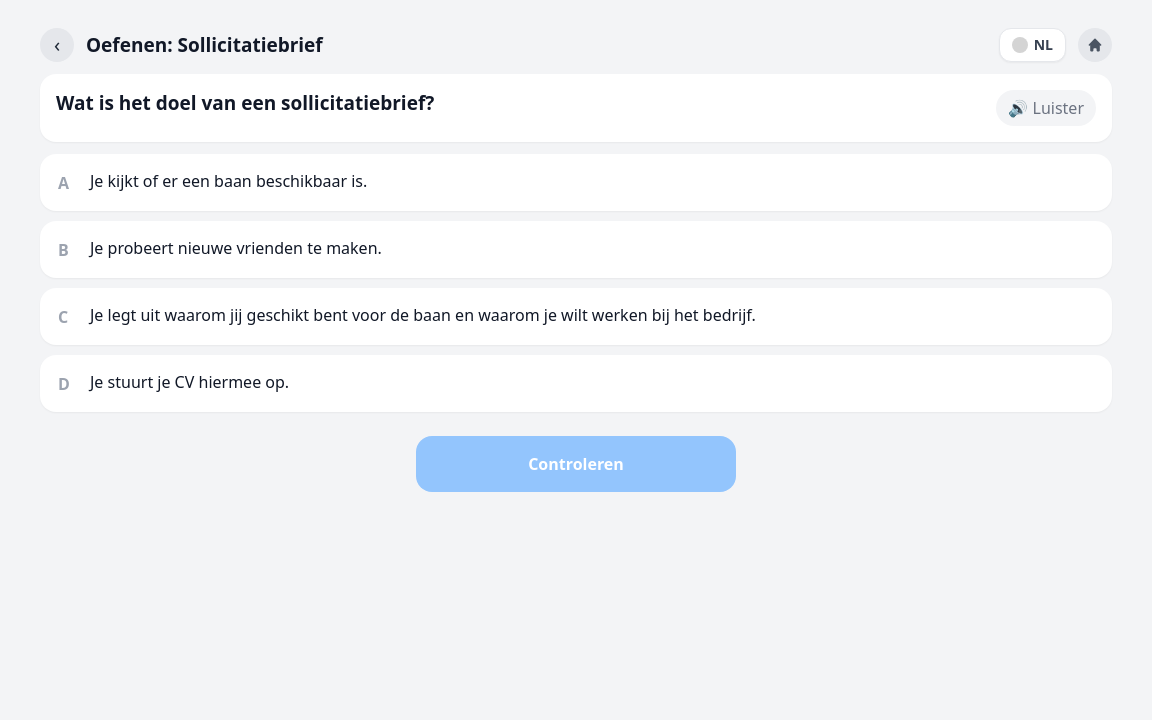
Test case: selecting wrong answer (A) shows negative feedback
Click the text "Je kijkt of er een baan beschikbaar is.": (229, 181) [90,170,367,192]
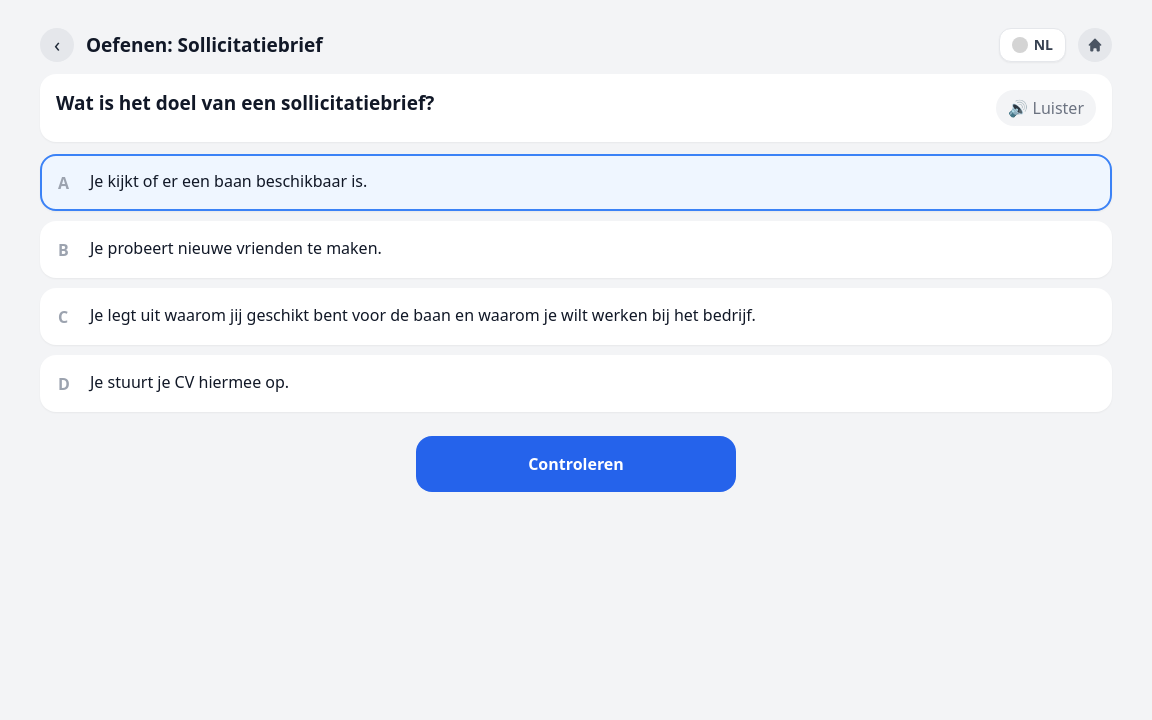
Click the button "Controleren": (576, 464) [416,436,736,492]
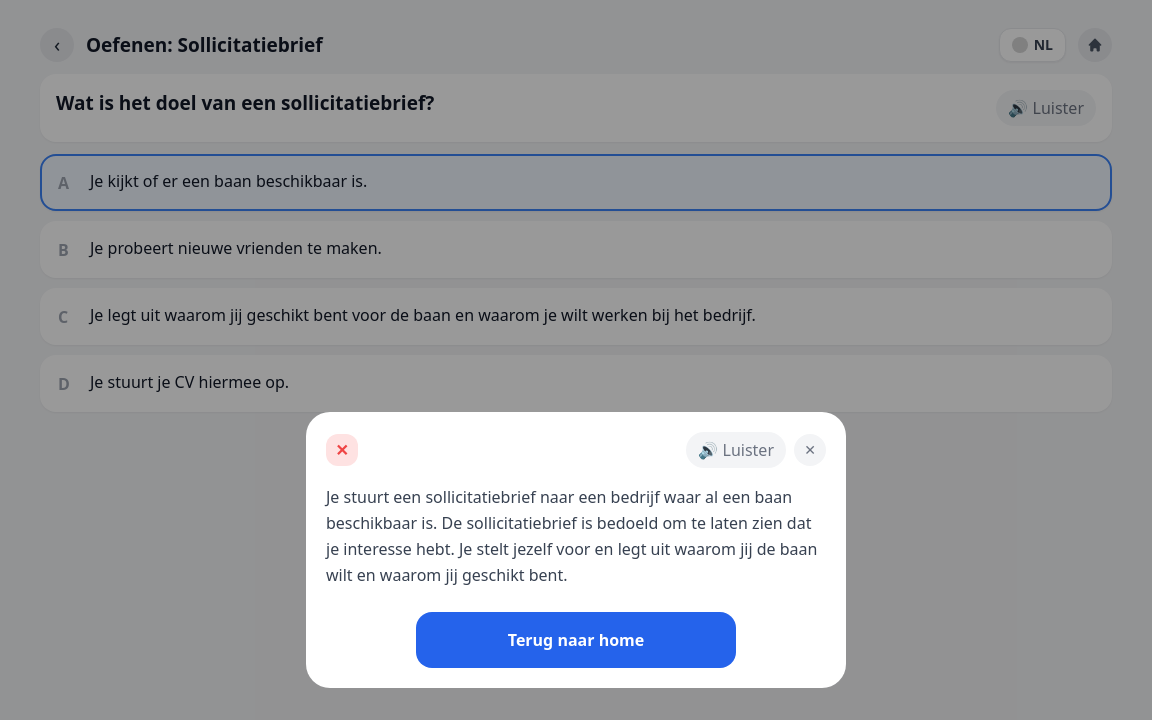
Result: the text "sollicitatiebrief is bedoeld" is shown at [326,486,817,586]
